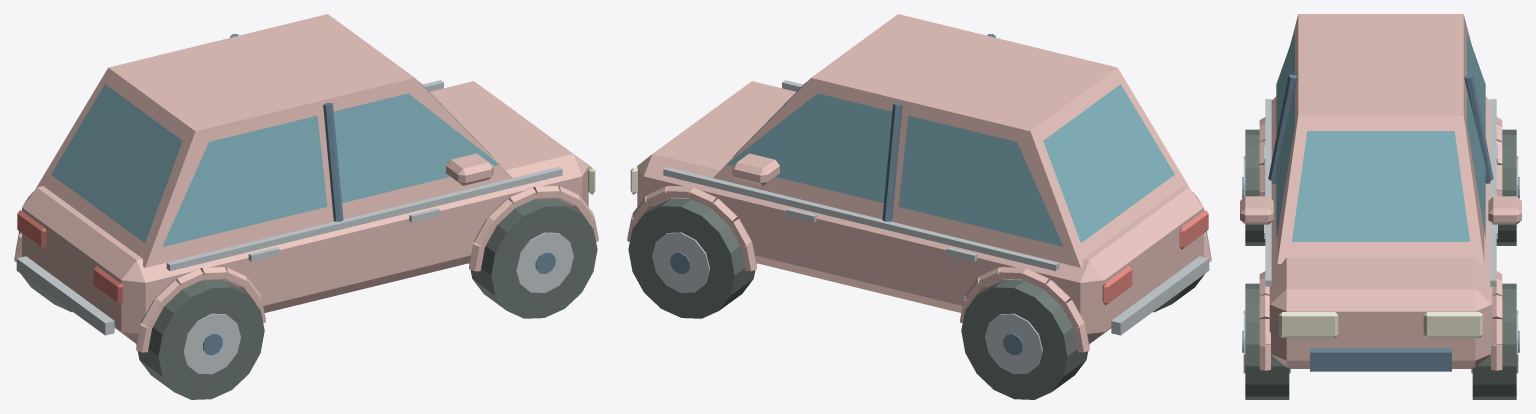
File: car-2.glb
The picture shows the model from 3 angles, left to right: view 1: azimuth 30°, elevation 25°; view 2: azimuth 150°, elevation 25°; view 3: azimuth 270°, elevation 25°; orthographic projection. The views are drawn at different scales.
Visible parts, largest first — view 1: car-2_pink, car-2_glass; view 2: car-2_pink, car-2_glass; view 3: car-2_pink, car-2_glass.
Part boxes in pixels (<box>): car-2_pink: <box>14,14,598,399</box>; car-2_glass: <box>51,82,499,246</box>; car-2_pink: <box>627,14,1211,399</box>; car-2_glass: <box>726,82,1174,246</box>; car-2_pink: <box>1240,14,1521,399</box>; car-2_glass: <box>1276,32,1485,241</box>.
Size of the model in its own units: 2.07 by 0.9899 by 1.09.
2 materials, 2 textured.
